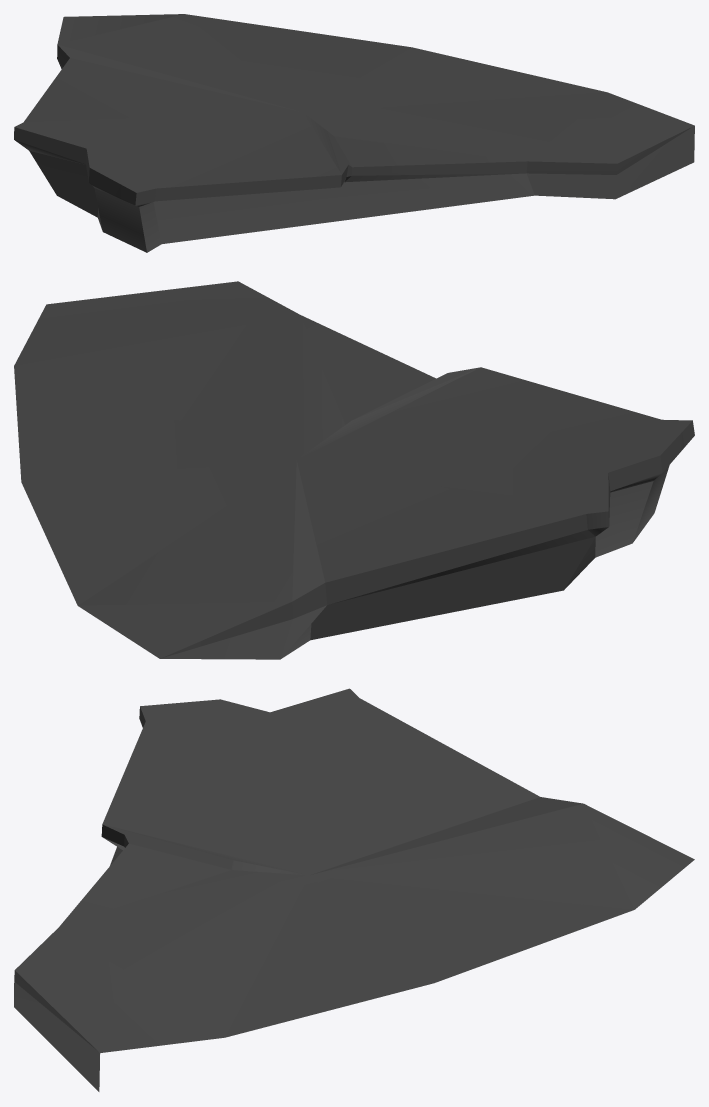
File: RoadPiece3.fbx
3 renders of one model, top to bottom at view 1: azimuth 30°, elevation 25°; view 2: azimuth 150°, elevation 25°; view 3: azimuth 270°, elevation 25°, orthographic. The views are drawn at different scales.
Parts seen in each view (by area): view 1: SM_Env_RoadPiece_Damaged_07.001; view 2: SM_Env_RoadPiece_Damaged_07.001; view 3: SM_Env_RoadPiece_Damaged_07.001.
Part boxes in pixels (left/top/right/bottom): SM_Env_RoadPiece_Damaged_07.001: left=14, top=14, right=694, bottom=252; SM_Env_RoadPiece_Damaged_07.001: left=14, top=281, right=694, bottom=659; SM_Env_RoadPiece_Damaged_07.001: left=14, top=688, right=694, bottom=1091.
Bounding box in the file's own units: 4.73 × 0.7196 × 4.46.
Materials: 1 (1 with a texture image).
